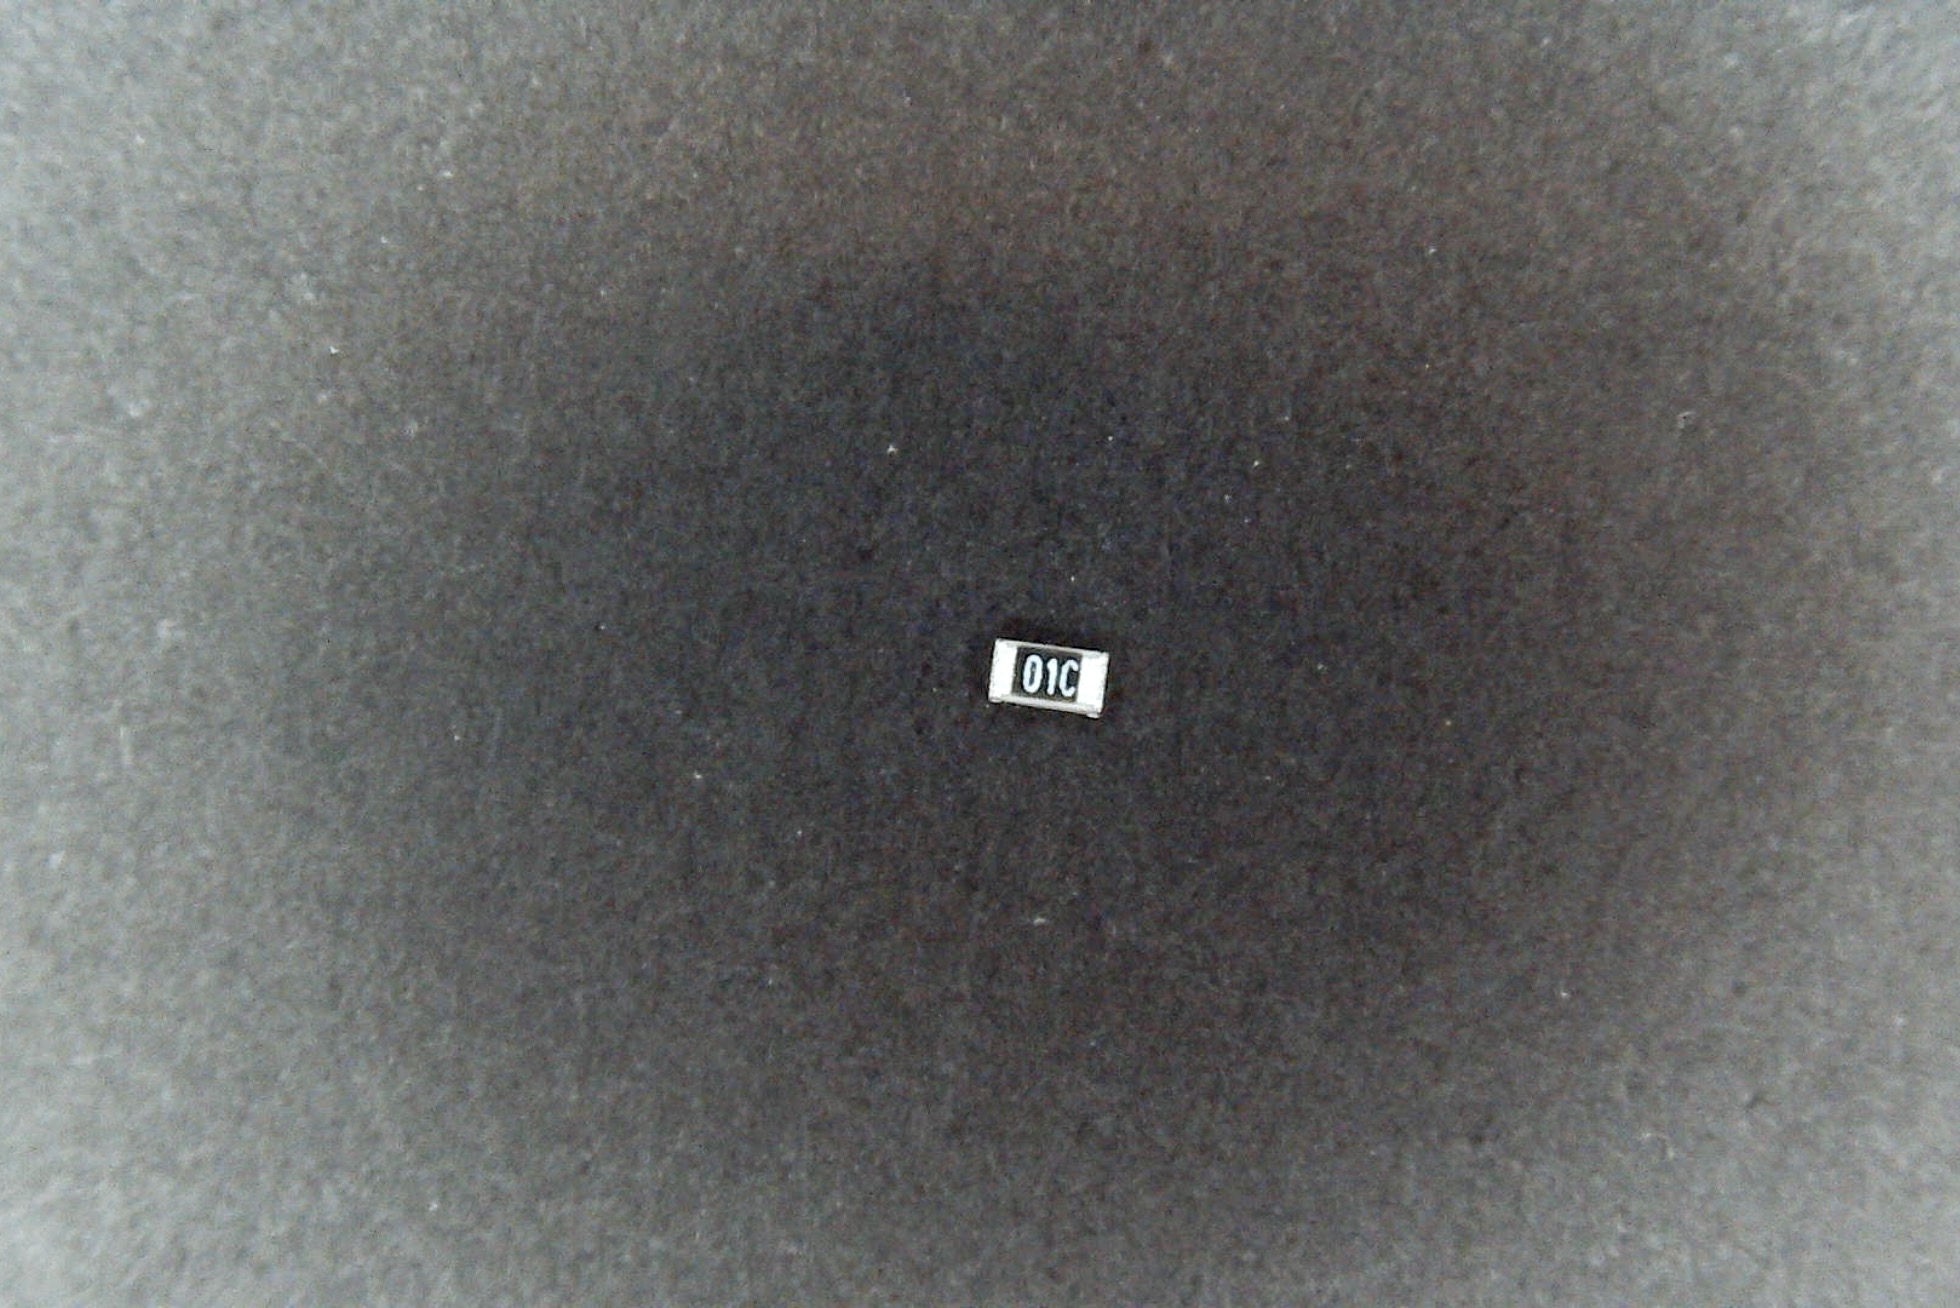bbox: (982, 636, 1112, 723)
